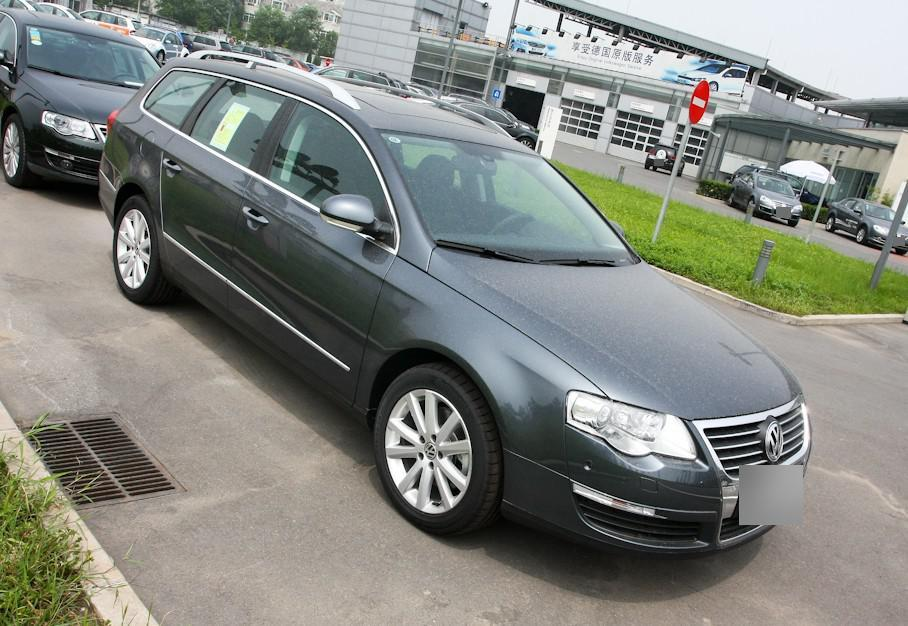Wagon: (96, 55, 815, 564)
